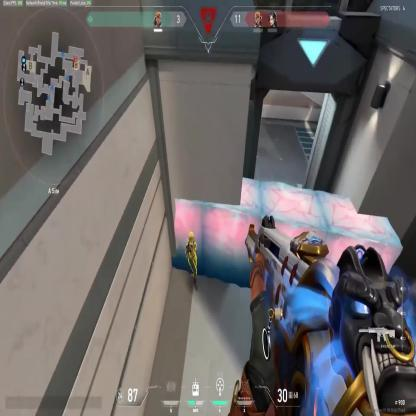enemy: (185, 230, 199, 291)
enemy_head: (189, 232, 194, 244)
